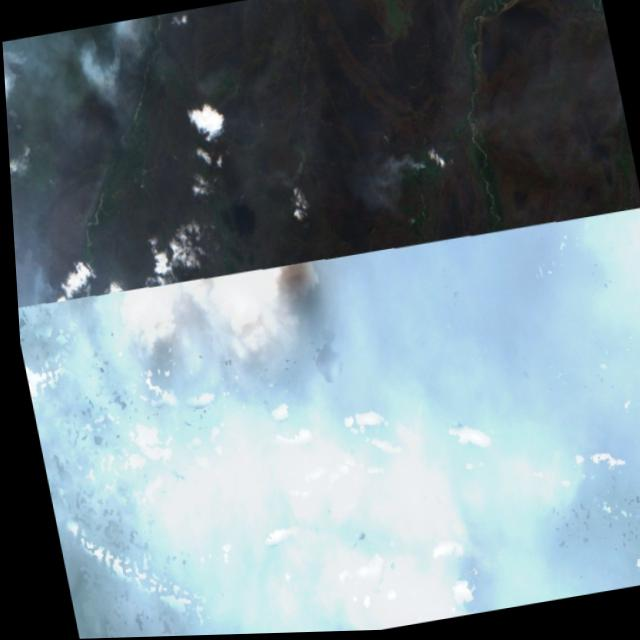fire: (285, 342, 495, 634), (122, 245, 335, 370), (2, 37, 56, 190), (92, 17, 162, 78)
